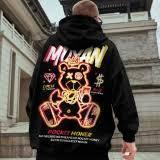sweater: (26, 24, 138, 160)
